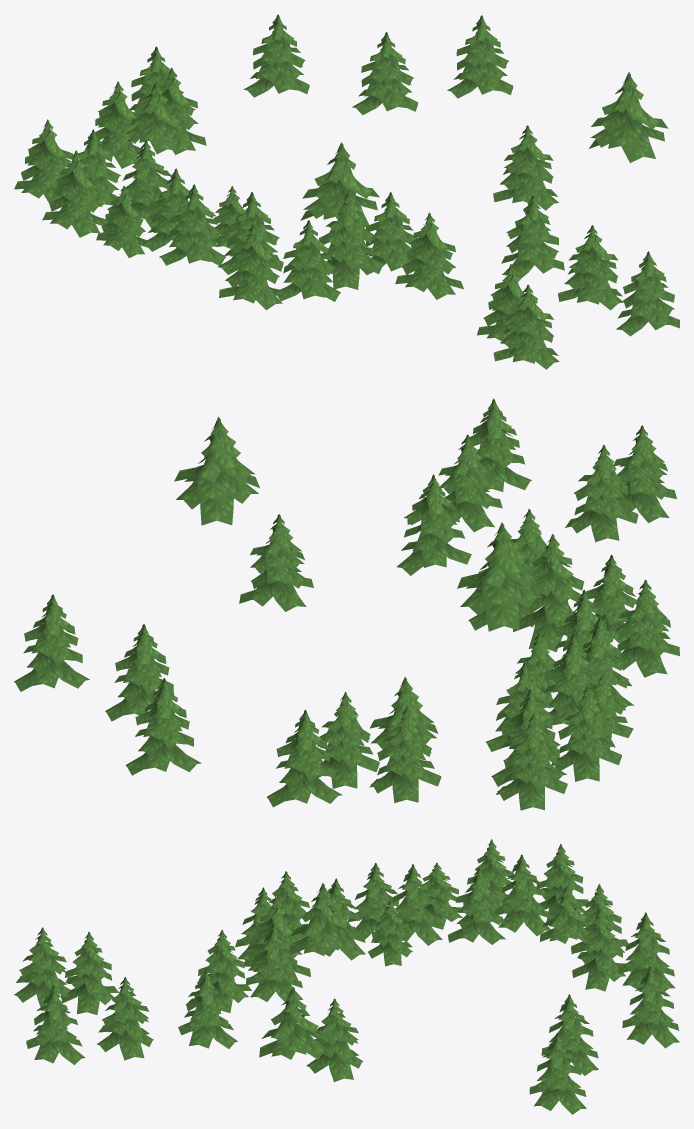
Rendered from songshuye_06.FBX.
The picture shows the model from 3 angles, top to bottom: view 1: azimuth 30°, elevation 25°; view 2: azimuth 150°, elevation 25°; view 3: azimuth 270°, elevation 25°; orthographic projection. The views are drawn at different scales.
Parts seen in each view (by area): view 1: Object029; view 2: Object029; view 3: Object029.
Part boxes in pixels (x1=…): Object029: x1=14, y1=14, x2=679, y2=369; Object029: x1=14, y1=398, x2=679, y2=810; Object029: x1=14, y1=839, x2=679, y2=1114.
Size of the model in its own units: 3636 by 934 by 4654.
